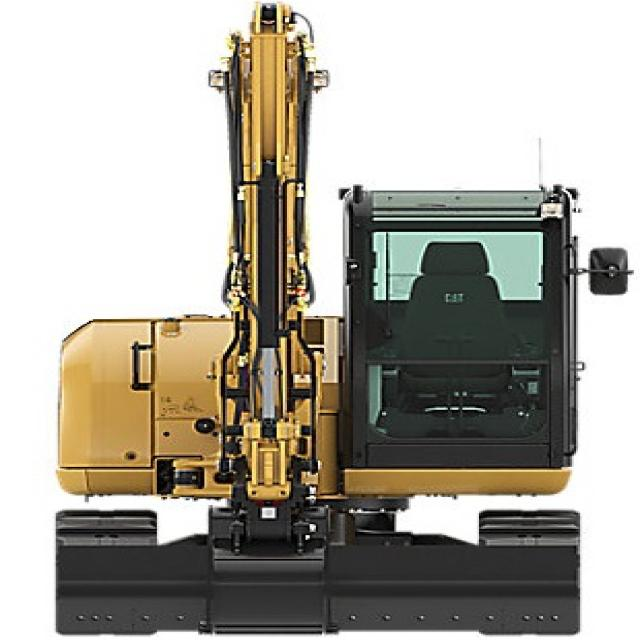excavator: (6, 0, 630, 640)
